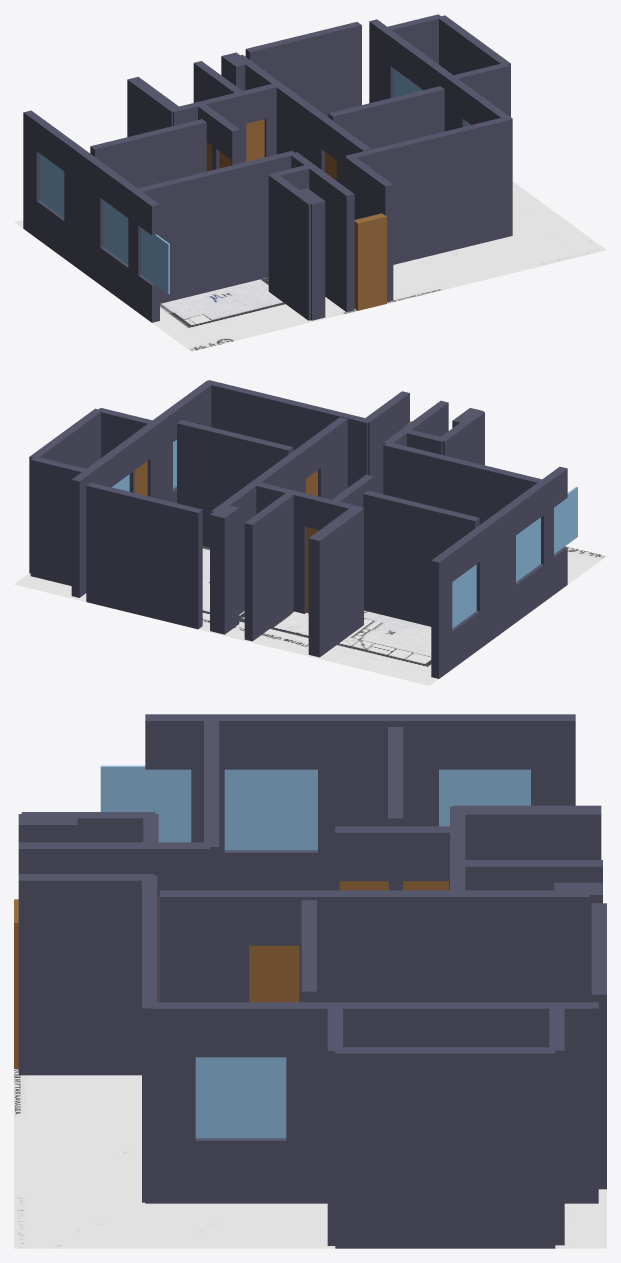
3 renders of one model, top to bottom at view 1: azimuth 30°, elevation 25°; view 2: azimuth 150°, elevation 25°; view 3: azimuth 270°, elevation 25°, orthographic. The views are drawn at different scales.
Parts seen in each view (by area): view 1: wall, FloorPlan, Window, door, Door; view 2: wall, FloorPlan, Window, Door; view 3: wall, FloorPlan, Window, Door, door.
Part boxes in pixels (box(x1,y1,x2,y2)): wall: box(23, 14, 512, 322); FloorPlan: box(14, 181, 606, 351); Window: box(40, 69, 470, 294); door: box(354, 213, 386, 310); Door: box(206, 119, 336, 180); wall: box(29, 380, 567, 678); FloorPlan: box(14, 546, 606, 685); Window: box(112, 439, 577, 628); Door: box(134, 461, 318, 613); wall: box(18, 714, 606, 1248); FloorPlan: box(14, 1069, 606, 1248); Window: box(100, 765, 530, 1138); Door: box(158, 881, 448, 1002); door: box(14, 899, 18, 1068).
Size of the model in its own units: 10.47 by 2.8 by 7.73.
5 materials, 1 textured.
